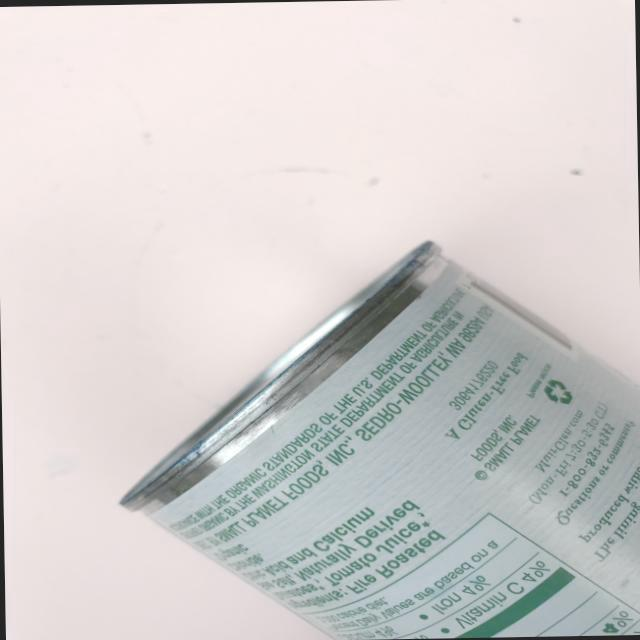metal: (105, 214, 640, 640)
